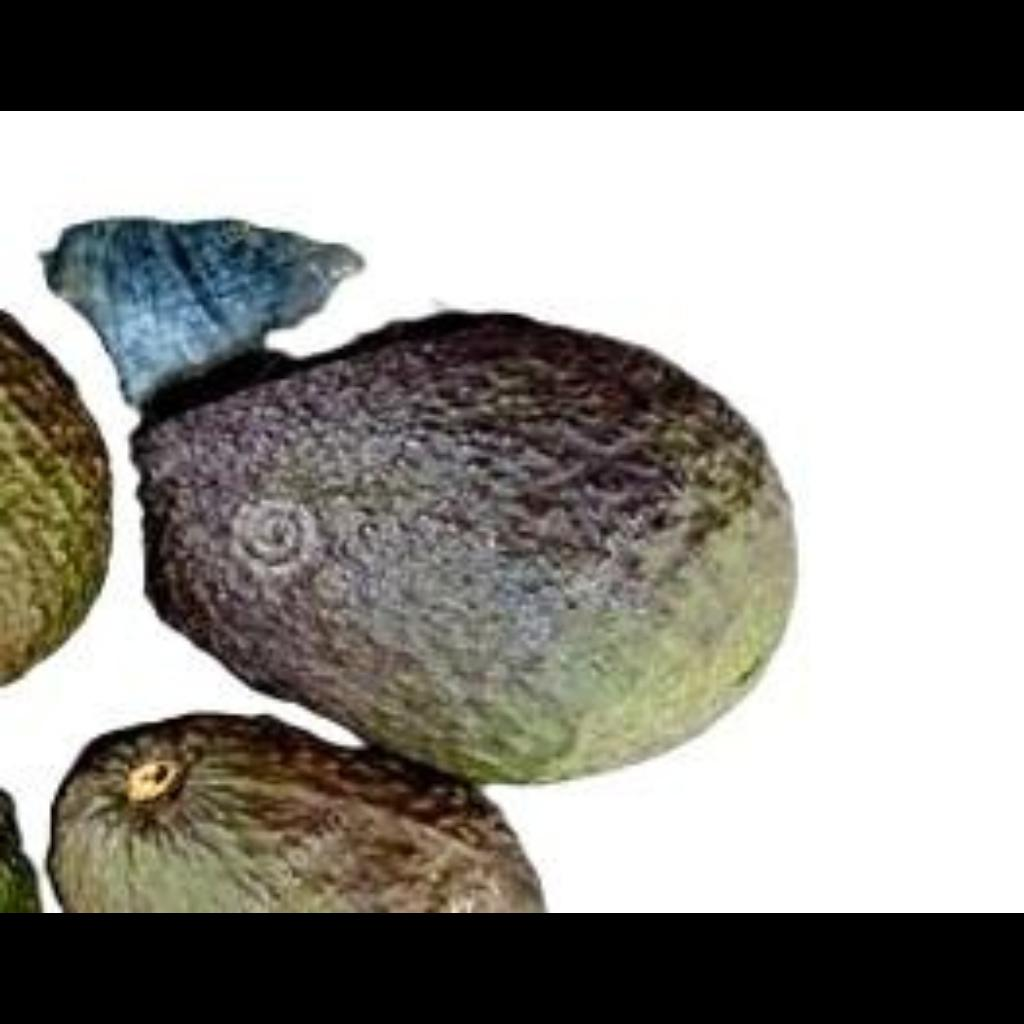antracnosis_fruto: (152, 348, 822, 730), (47, 677, 549, 907), (0, 298, 116, 668)
